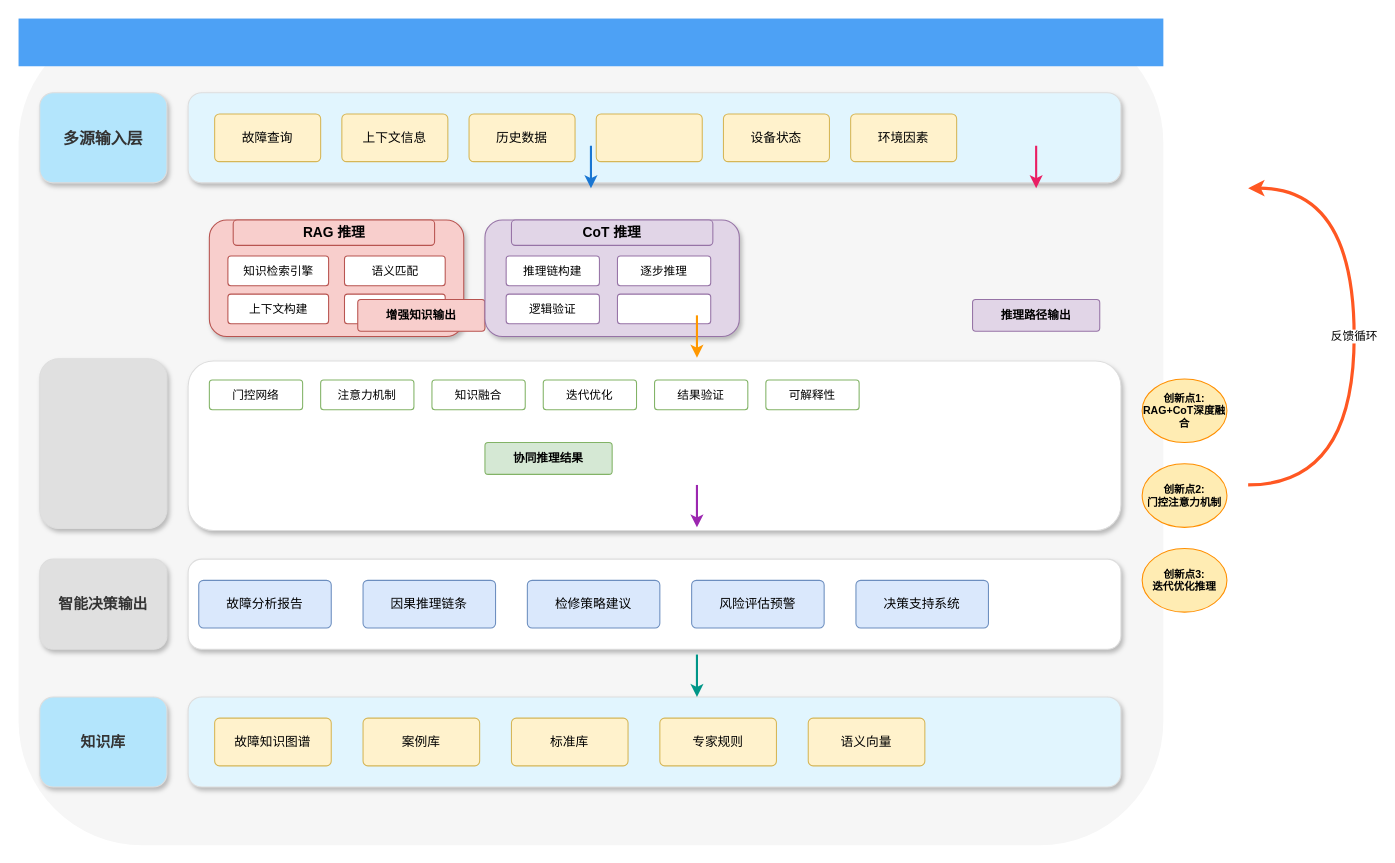
Image size: 1395x863. Some labels were removed from this diagram. Here are the shapes that lost their labels. From the top down, the centre of each, then its label:
point (590, 42): RAG与CoT协同推理机制架构图
point (648, 137): 专家知识
point (663, 308): 路径生成
point (103, 445): RAG+CoT协同推理层
